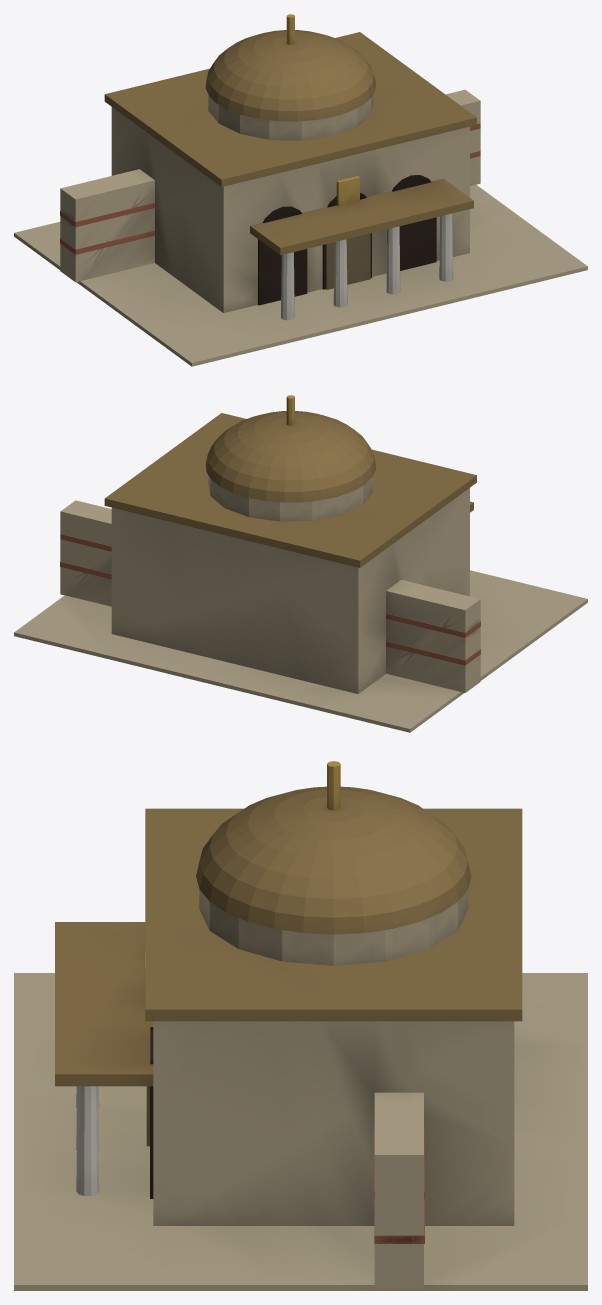
File: chalke.glb
The picture shows the model from 3 angles, top to bottom: view 1: azimuth 30°, elevation 25°; view 2: azimuth 150°, elevation 25°; view 3: azimuth 270°, elevation 25°; orthographic projection. The views are drawn at different scales.
Visible parts, largest first — view 1: p0_hall, p1_dome, p2_porch; view 2: p0_hall, p1_dome; view 3: p0_hall, p1_dome, p2_porch.
Boxes of the visible parts, left/top/right/bottom form: p0_hall: left=14, top=89, right=587, bottom=366; p1_dome: left=104, top=14, right=476, bottom=186; p2_porch: left=250, top=178, right=473, bottom=320; p0_hall: left=14, top=488, right=587, bottom=732; p1_dome: left=104, top=395, right=476, bottom=567; p0_hall: left=14, top=951, right=587, bottom=1290; p1_dome: left=145, top=761, right=522, bottom=1021; p2_porch: left=55, top=922, right=153, bottom=1195.
Bounding box in the file's own units: 46.02 × 24.96 × 35.
